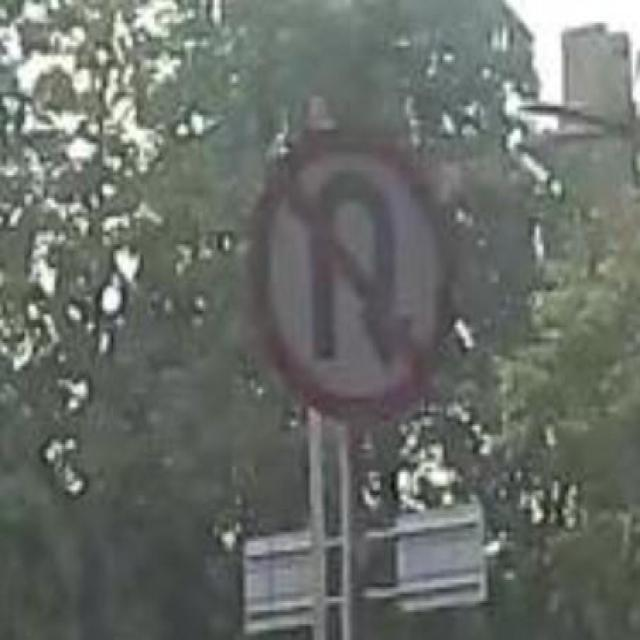traffic sign: (253, 135, 451, 434)
